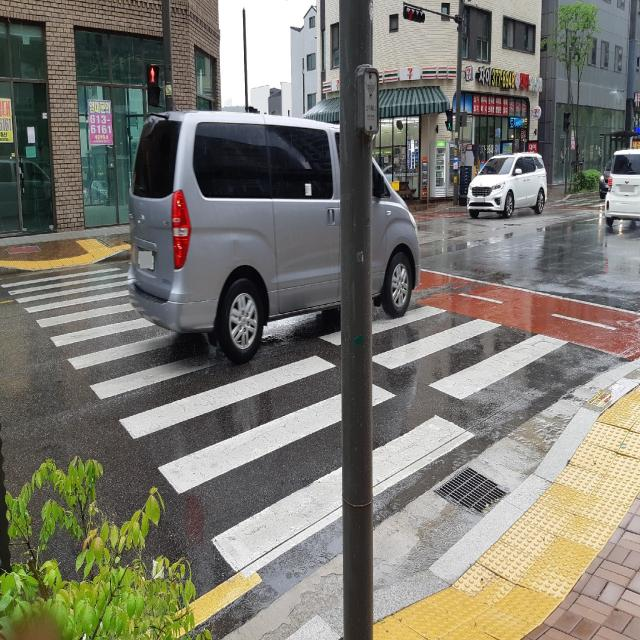빨간불: (145, 62, 162, 110)
횡단보도: (0, 267, 569, 577)
